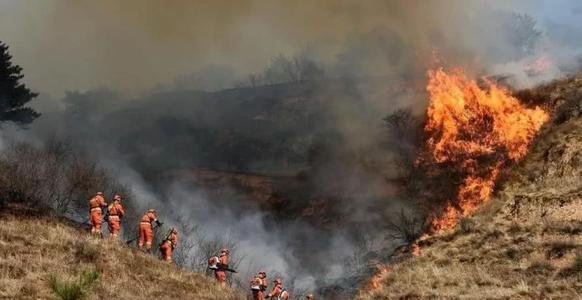fire: (425, 66, 538, 160), (435, 174, 491, 228)
